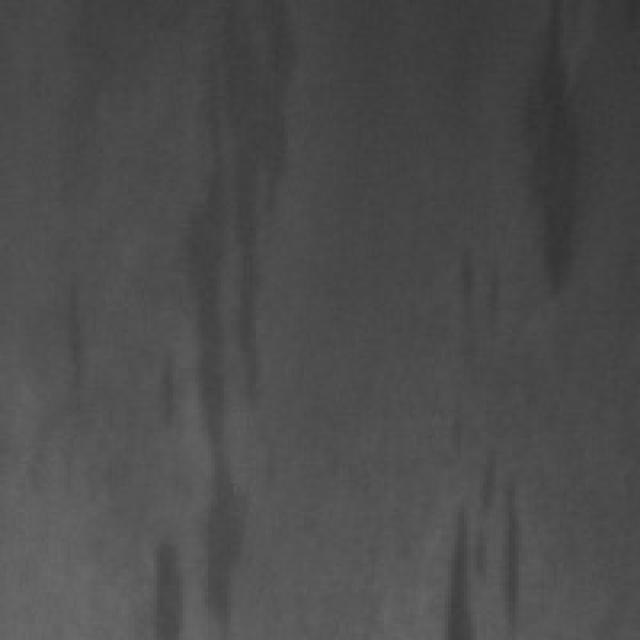inclusion: (141, 0, 285, 634), (506, 0, 598, 304), (432, 420, 541, 630), (29, 32, 134, 214), (138, 528, 192, 634)
